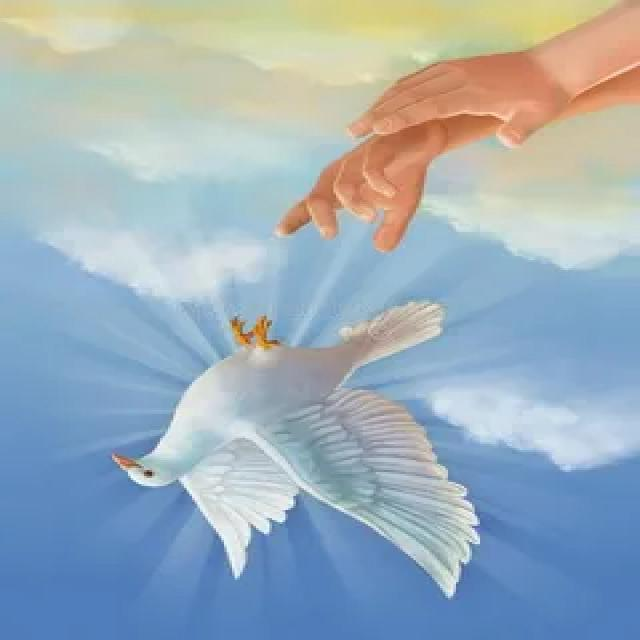pigeon: (104, 289, 493, 602)
